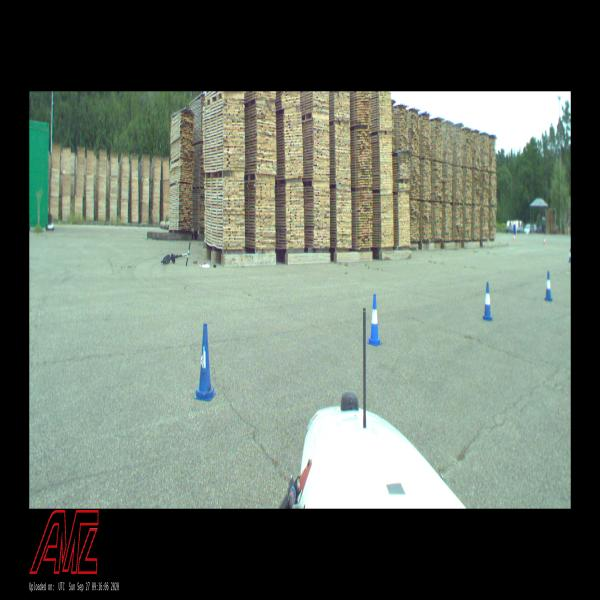blue_cone: (196, 324, 214, 399), (369, 294, 380, 344), (483, 282, 492, 321), (544, 271, 552, 301), (568, 249, 570, 262)
orange_cone: (544, 238, 546, 245), (513, 234, 515, 240)
